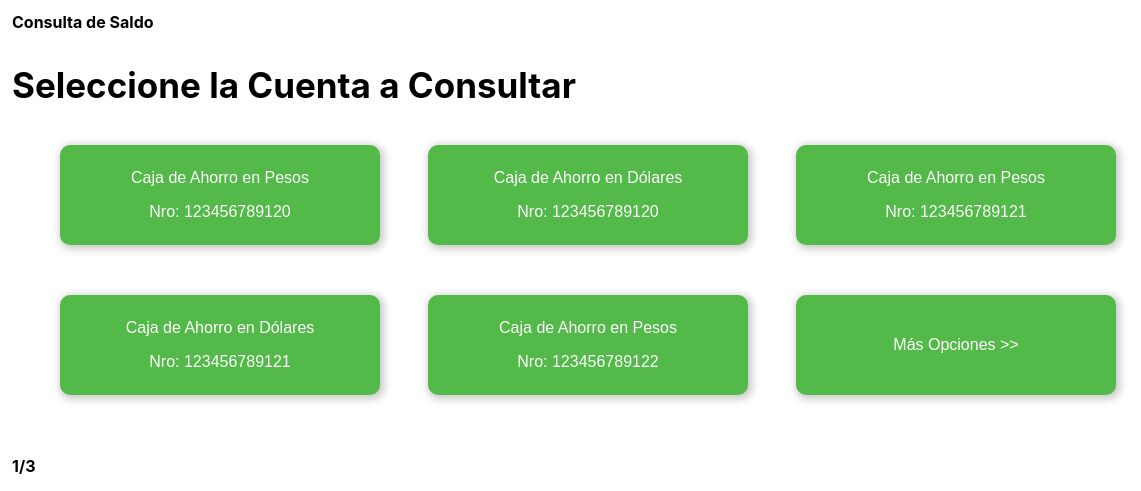
it: Container component › Data loaded and three account pages
Check: the text "Nro: 123456789120" is shown 5 times, box [149, 203, 291, 220]; [517, 203, 659, 220]; [885, 203, 1027, 220]; [149, 353, 291, 370]; [517, 353, 659, 370]
Click the button "Más Opciones >>" at (956, 345), box [796, 295, 1116, 395]
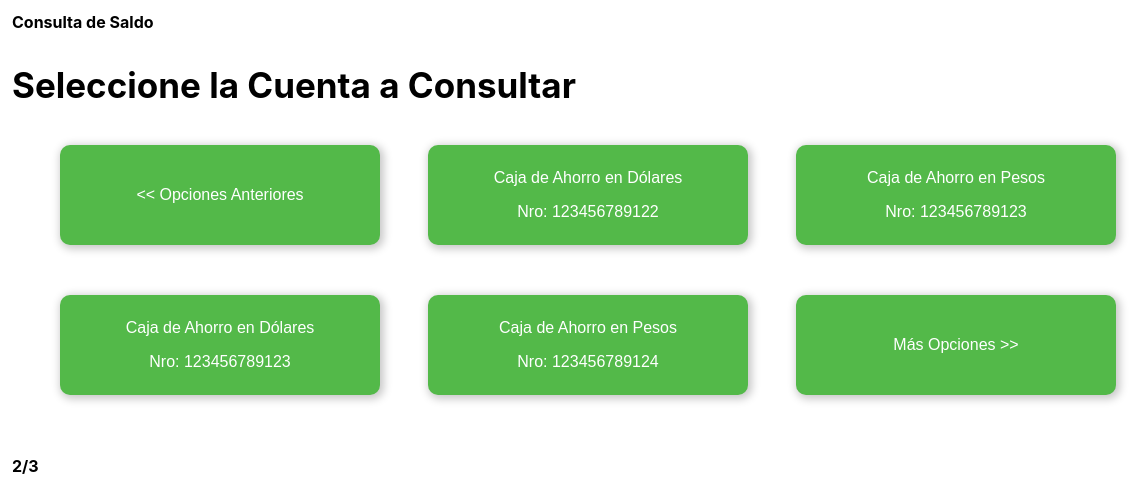
Check: the text "Nro: 123456789122" is shown 4 times, box [517, 203, 659, 220]; [885, 203, 1027, 220]; [149, 353, 291, 370]; [517, 353, 659, 370]
Click the button "Más Opciones >>" at (956, 345), box [796, 295, 1116, 395]
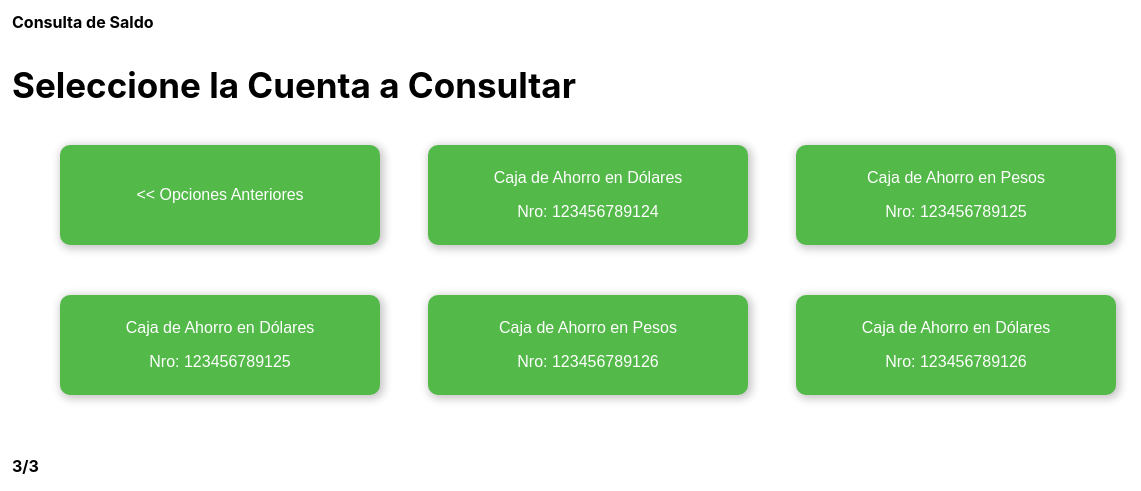
Check: the text "Nro: 123456789124" is shown 5 times, box [517, 203, 659, 220]; [885, 203, 1027, 220]; [149, 353, 291, 370]; [517, 353, 659, 370]; [885, 353, 1027, 370]
